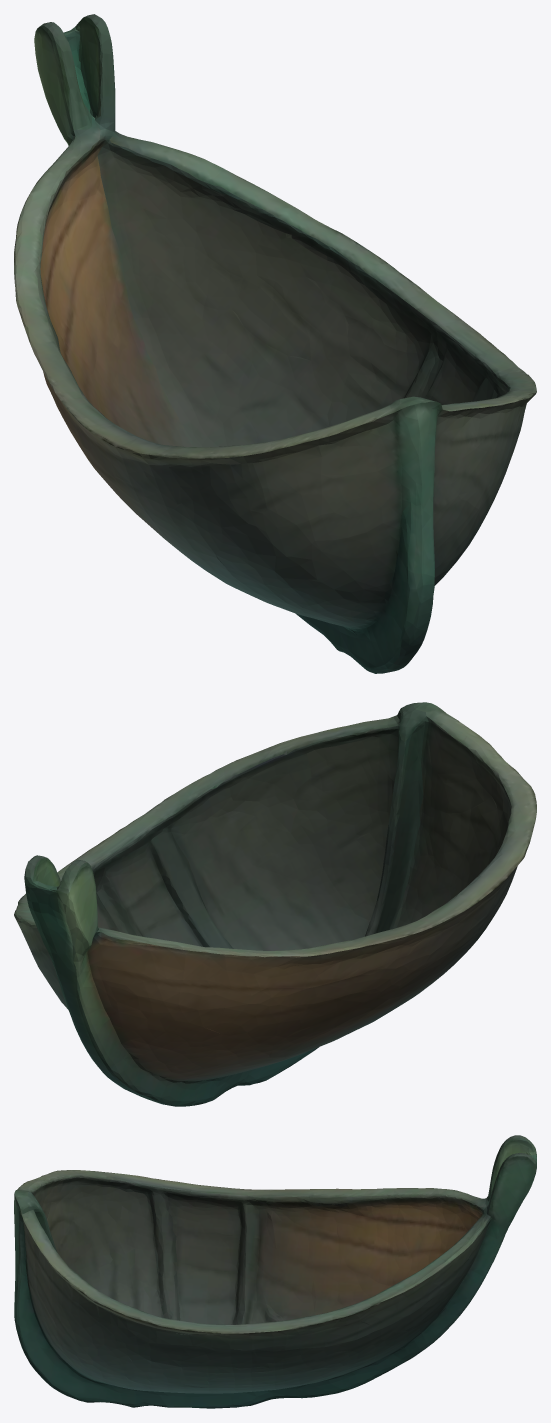
File: sunken_ship.glb
3 renders of one model, top to bottom at view 1: azimuth 30°, elevation 25°; view 2: azimuth 150°, elevation 25°; view 3: azimuth 270°, elevation 25°, orthographic. The views are drawn at different scales.
Parts seen in each view (by area): view 1: world; view 2: world; view 3: world.
Part boxes in pixels (bbox=[...]): world: bbox=[14, 14, 536, 673]; world: bbox=[14, 702, 536, 1106]; world: bbox=[14, 1135, 536, 1408].
Size of the model in its own units: 0.6087 by 0.5697 by 0.9972.
Materials: 1 (1 with a texture image).
